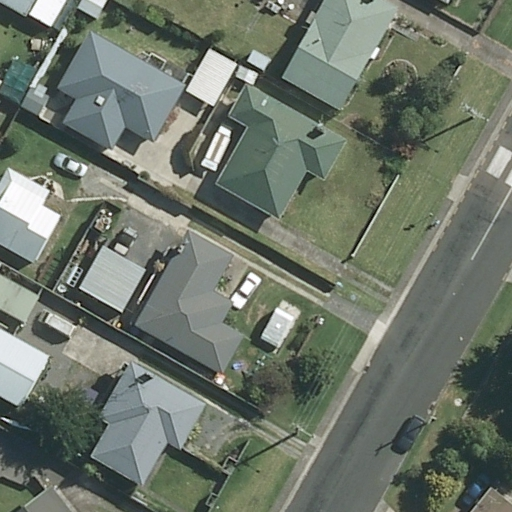DT: (460, 102, 492, 124), (293, 421, 324, 440), (422, 408, 441, 427)
